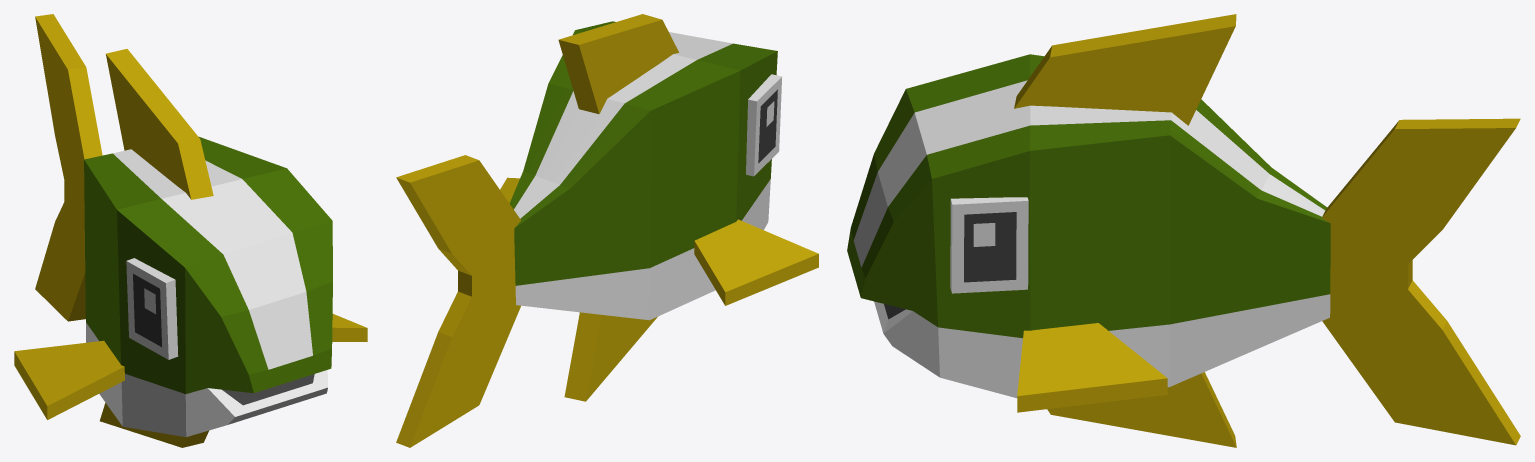
Rendered from frame_01.fbx.
The picture shows the model from 3 angles, left to right: view 1: azimuth 30°, elevation 25°; view 2: azimuth 150°, elevation 25°; view 3: azimuth 270°, elevation 25°; orthographic projection. The views are drawn at different scales.
Parts seen in each view (by area): view 1: Cube.010; view 2: Cube.010; view 3: Cube.010.
Part boxes in pixels (x1,y1,x2,y2): Cube.010: (14,14,367,447); Cube.010: (396,14,818,447); Cube.010: (847,14,1520,447).
Size of the model in its own units: 3.14 by 3.42 by 4.91.
